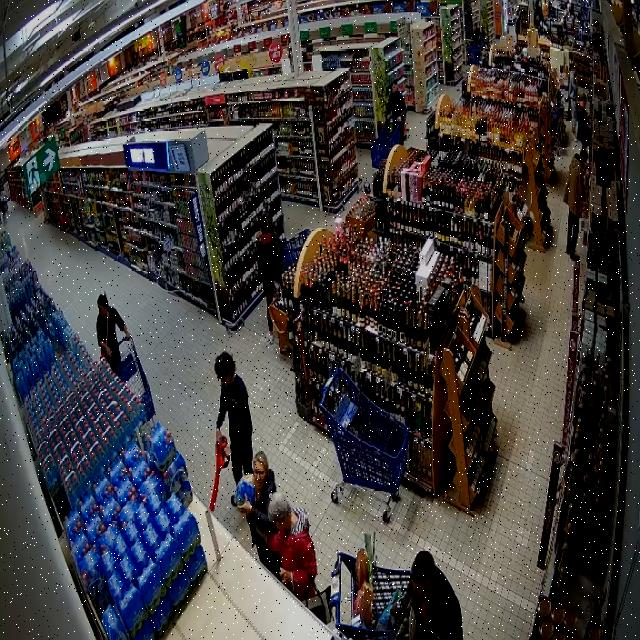article: (235, 474, 255, 506)
bags: (304, 580, 331, 624)
hands: (280, 568, 292, 588), (239, 501, 252, 516), (216, 428, 222, 441), (224, 446, 231, 457), (106, 346, 111, 357), (125, 331, 131, 340), (397, 117, 401, 123), (387, 115, 390, 121)
person: (391, 551, 462, 639), (268, 493, 317, 601), (239, 452, 280, 577), (215, 353, 252, 484), (258, 215, 283, 343), (564, 148, 588, 258), (97, 293, 130, 371), (387, 82, 407, 144), (577, 95, 587, 143)
